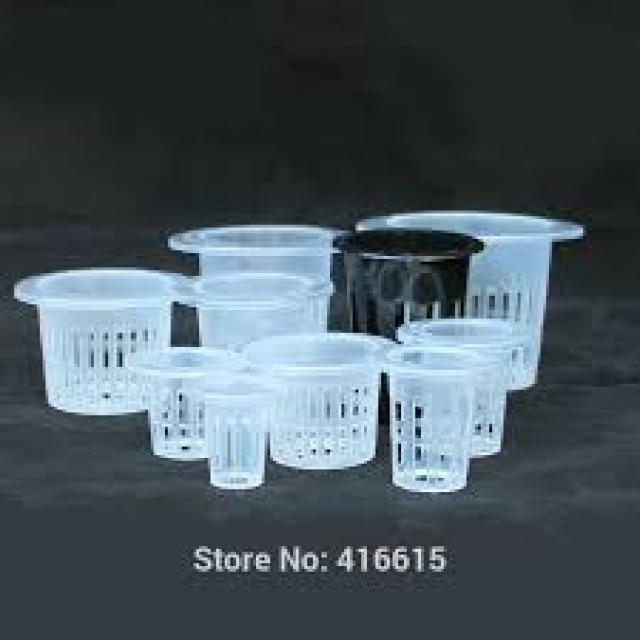basket: (325, 162, 588, 398), (14, 270, 179, 415), (338, 216, 494, 343), (171, 228, 338, 346), (270, 333, 381, 474), (398, 321, 512, 457), (386, 347, 479, 497), (146, 349, 208, 465), (205, 395, 270, 492)
